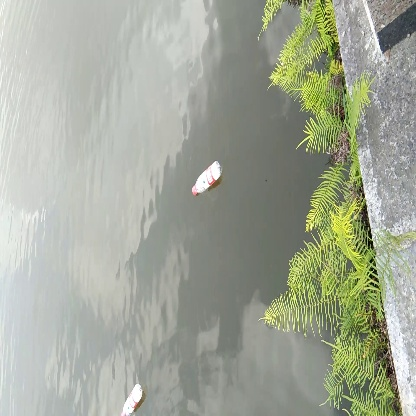bottle: (186, 160, 226, 198)
